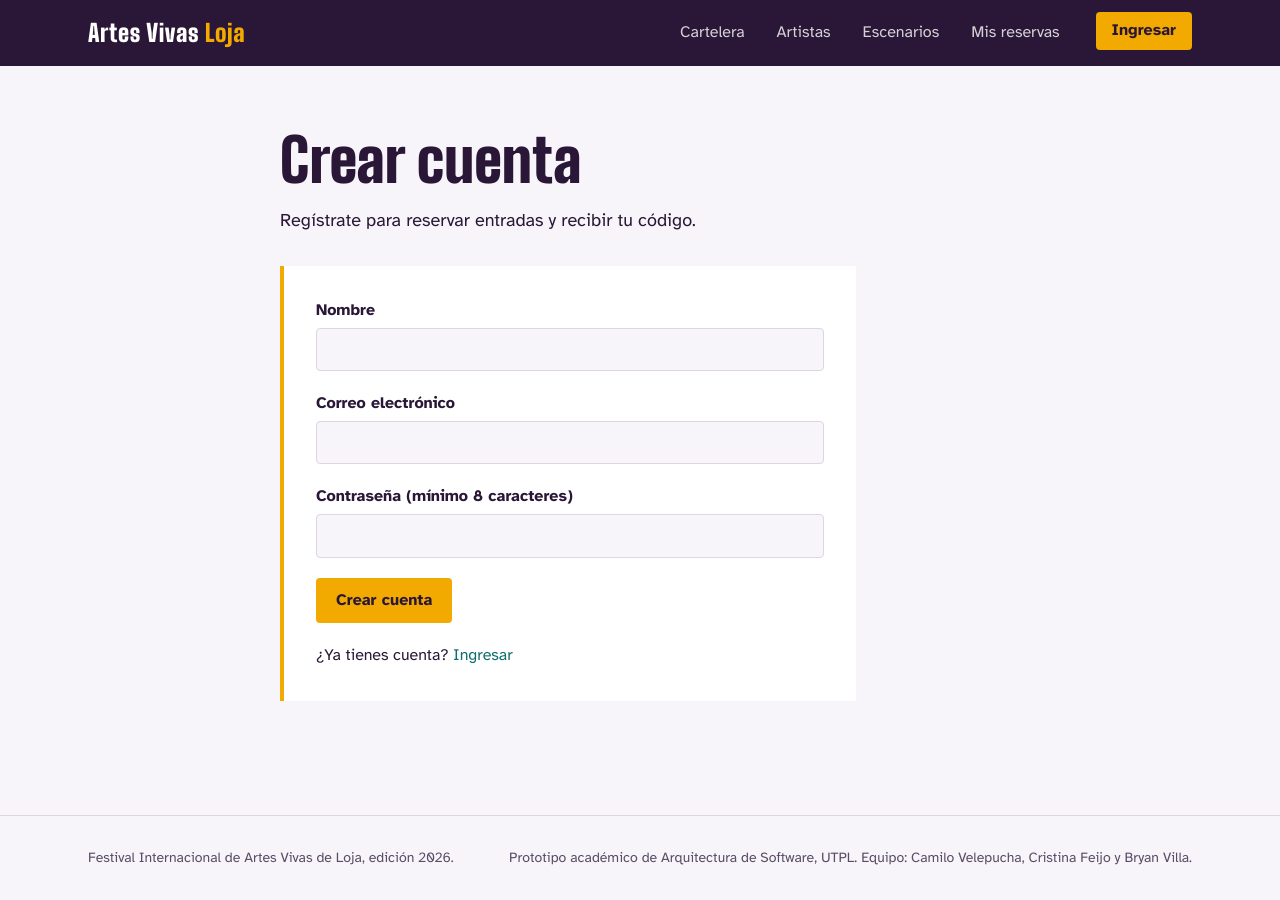
Test: sesión y pantallas de autenticación › crea cuenta mediante el formulario de registro y establece sesión
This screenshot has width=1280, height=900.
Type "Ana Festival" into the field labelled "Nombre". click: (570, 349)
box: left=316, top=328, right=824, bottom=371
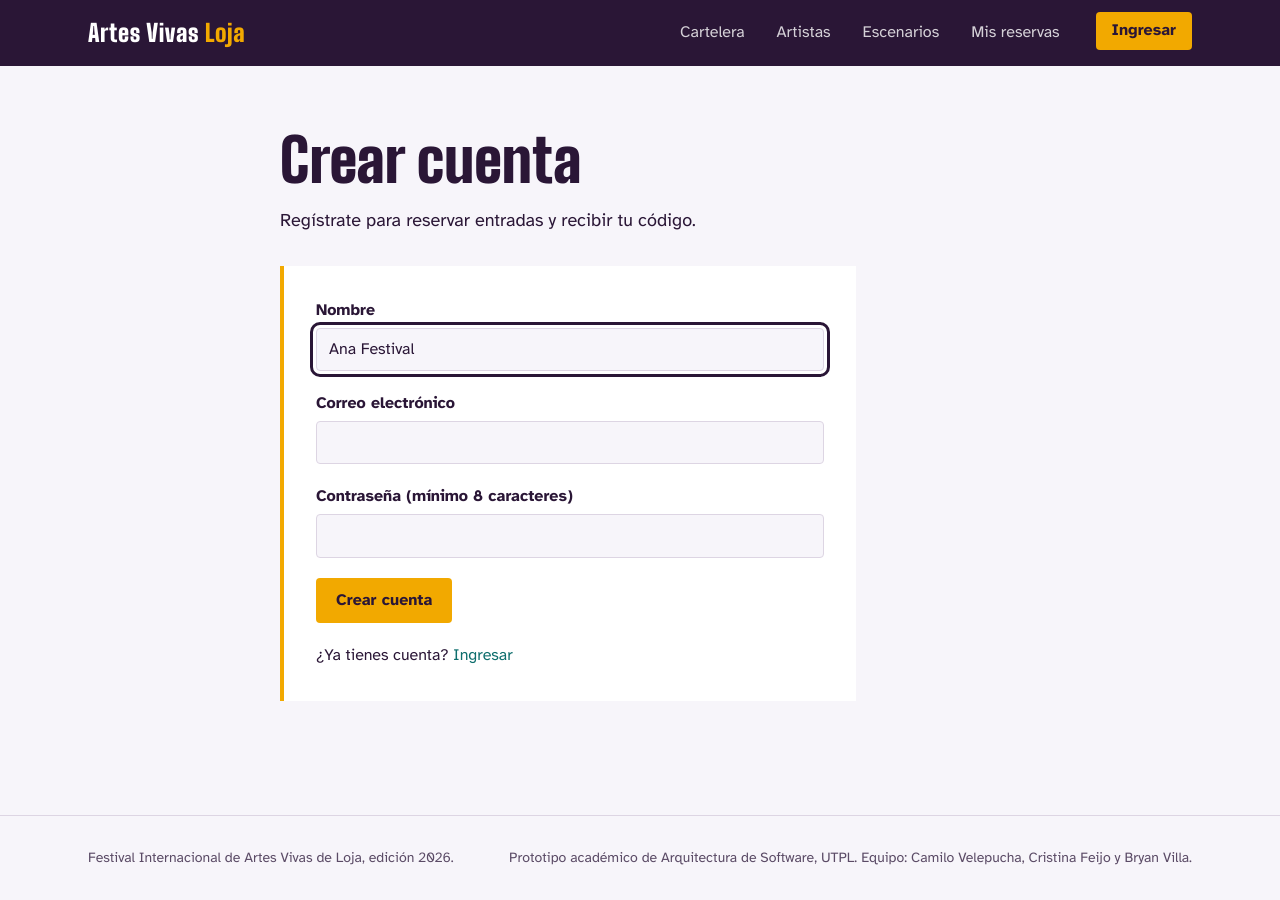
Type "ana@festival.ec" into the field labelled "Correo electrónico". click: (570, 443)
box: left=316, top=421, right=824, bottom=464
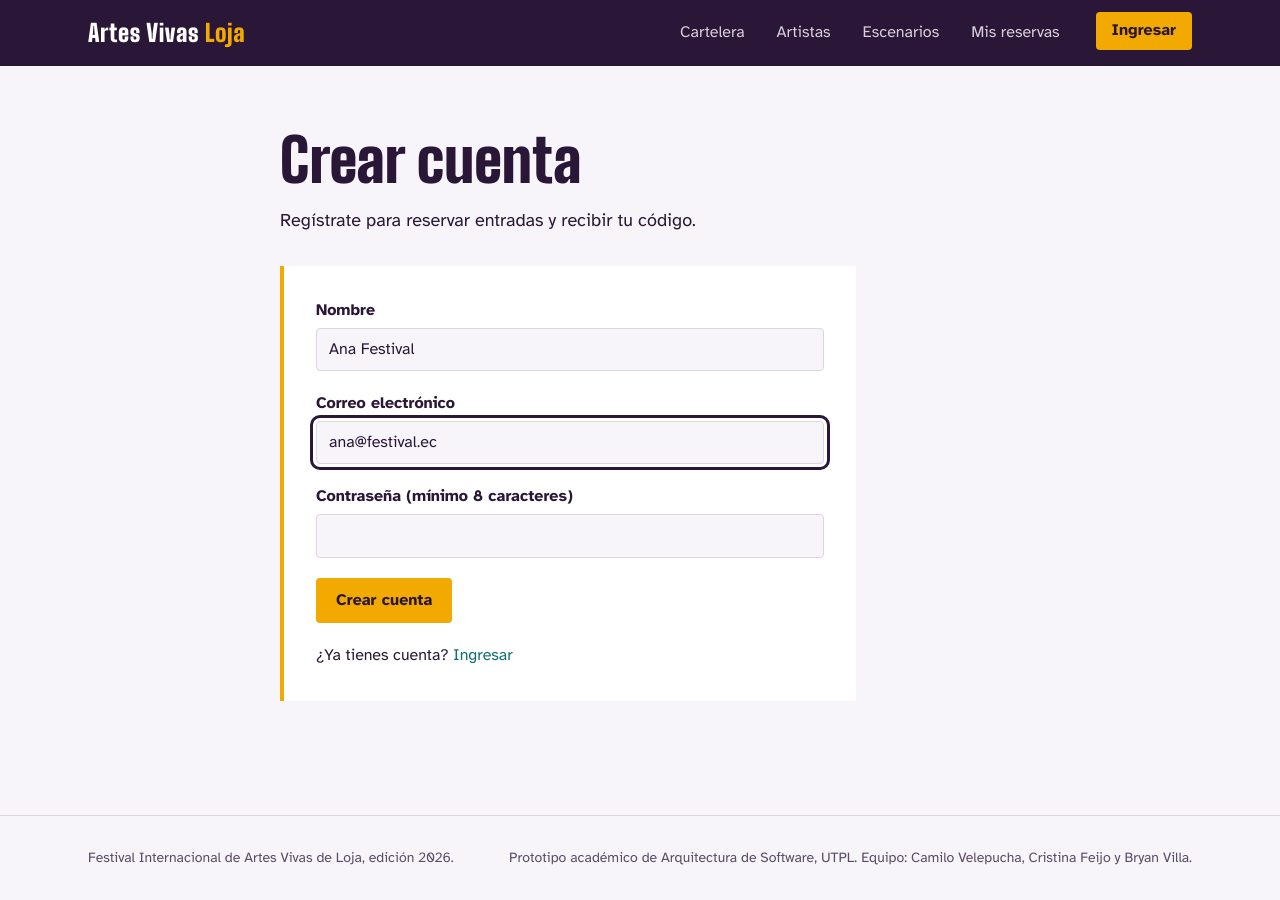
Type "festival2026" into the password field labelled "Contraseña (mínimo 8 caracteres)". click: (570, 536)
box: left=316, top=514, right=824, bottom=558
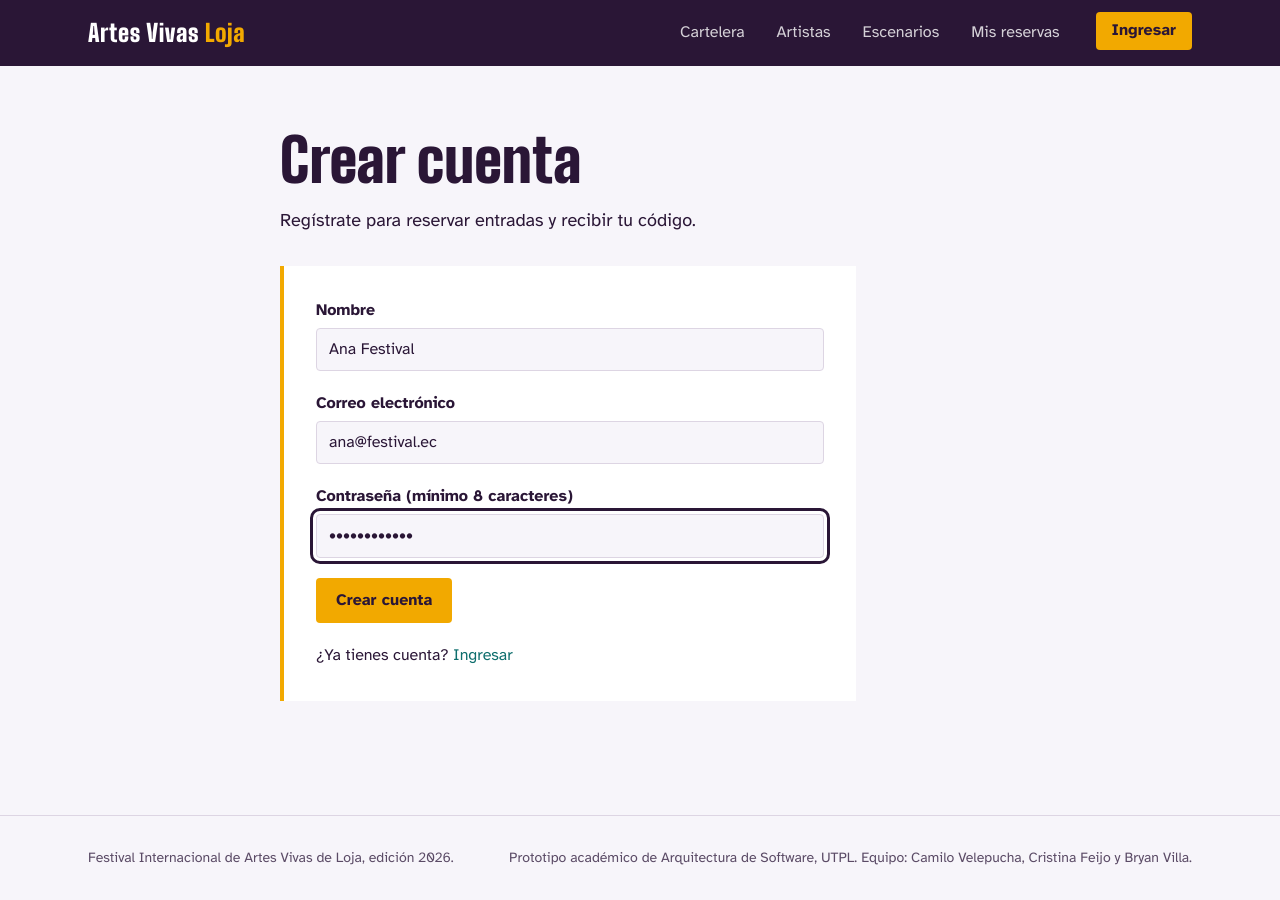
Click the button "Crear cuenta". click: (384, 600)
box: left=316, top=578, right=452, bottom=623
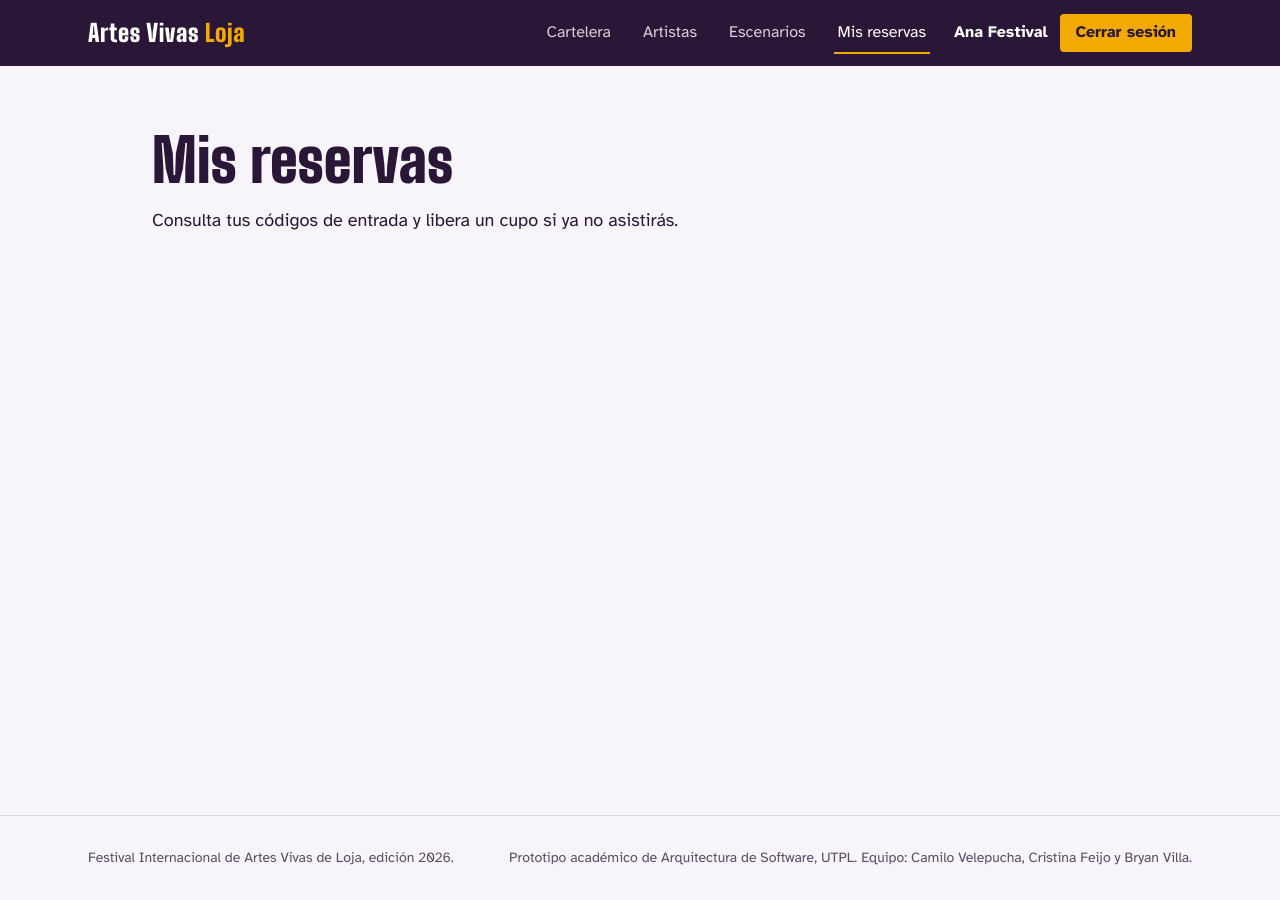
Expected: the heading "Mis reservas" is shown, left=152, top=124, right=453, bottom=196
